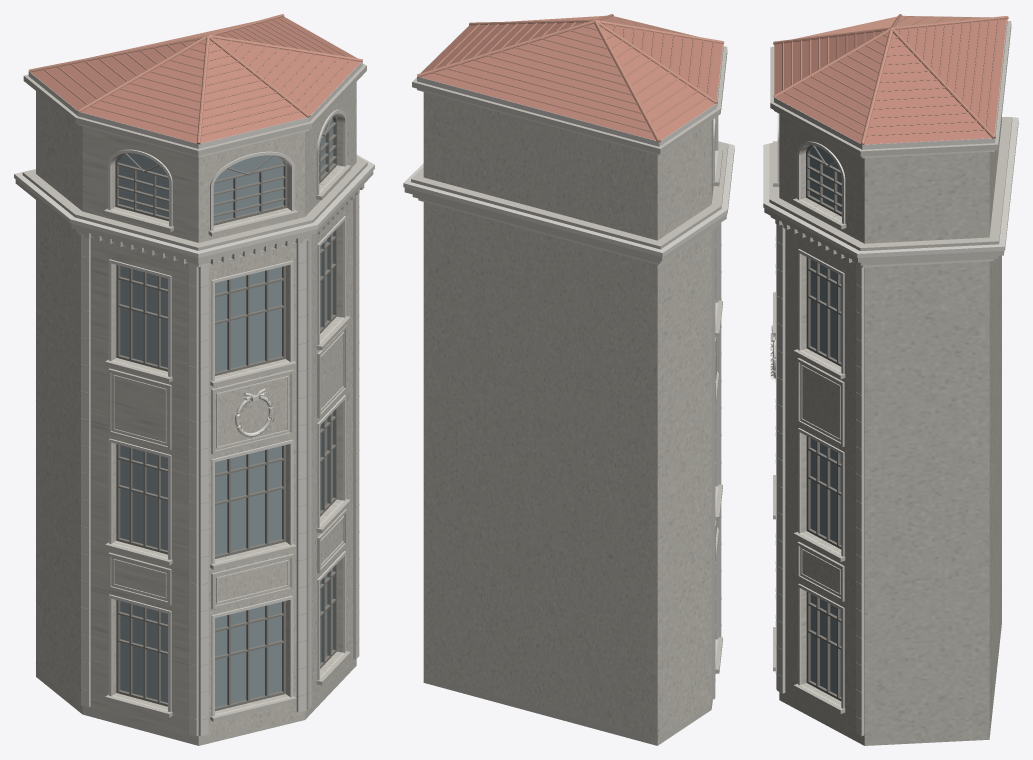
File: jingan-ji-garden-residence-south-bay-raw.glb
The picture shows the model from 3 angles, left to right: view 1: azimuth 30°, elevation 25°; view 2: azimuth 150°, elevation 25°; view 3: azimuth 270°, elevation 25°; orthographic projection.
Parts seen in each view (by area): view 1: 纪氏花园住宅临街折角窗塔; view 2: 纪氏花园住宅临街折角窗塔; view 3: 纪氏花园住宅临街折角窗塔.
Boxes of the visible parts, left/top/right/bottom form: 纪氏花园住宅临街折角窗塔: left=14, top=14, right=374, bottom=745; 纪氏花园住宅临街折角窗塔: left=403, top=14, right=734, bottom=745; 纪氏花园住宅临街折角窗塔: left=763, top=14, right=1018, bottom=745.
Bounding box in the file's own units: 7.92 × 17.4 × 6.18.
8 materials, 1 textured.
